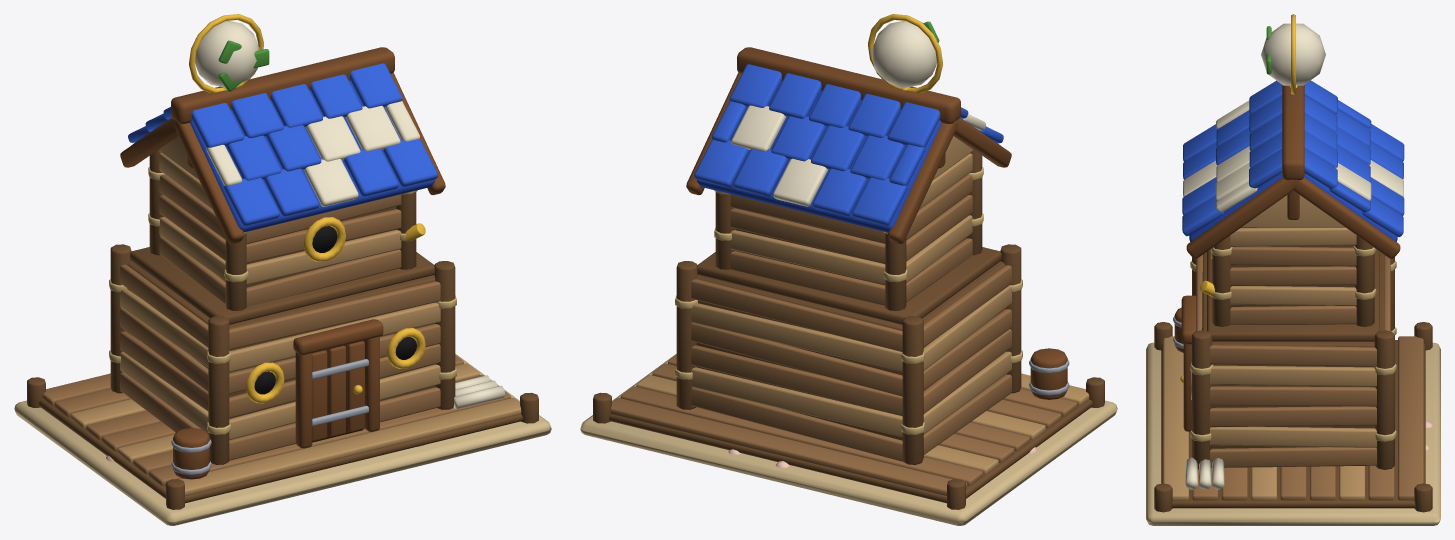
File: Library.glb
3 renders of one model, left to right at view 1: azimuth 30°, elevation 25°; view 2: azimuth 150°, elevation 25°; view 3: azimuth 270°, elevation 25°, orthographic. The views are drawn at different scales.
Visible parts, largest first — view 1: Library; view 2: Library; view 3: Library.
Boxes of the visible parts, x1,y1,x2,y2 form: Library: (14,14,551,525); Library: (580,14,1117,525); Library: (1146,14,1440,525).
Size of the model in its own units: 4.1 by 4.32 by 2.9.
